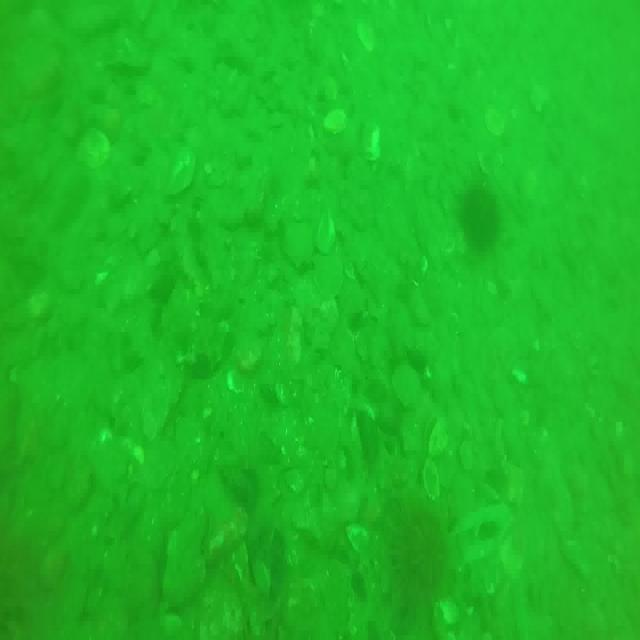echinus: (462, 182, 500, 250)
scallop: (164, 150, 198, 198), (76, 130, 110, 166), (430, 410, 449, 461), (343, 522, 369, 558), (420, 457, 440, 501), (484, 99, 507, 135), (319, 209, 336, 257), (322, 110, 347, 132), (358, 16, 373, 52), (226, 371, 247, 395)
